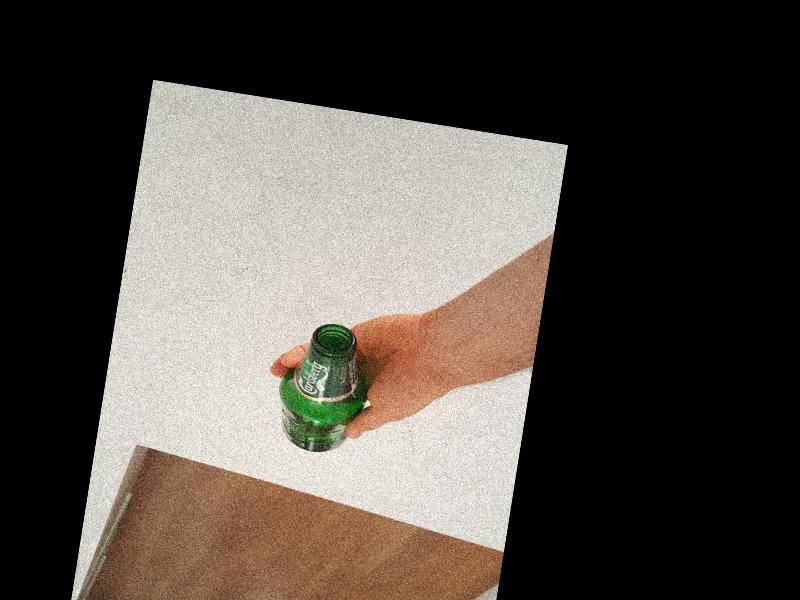Beer: (271, 317, 375, 459)
